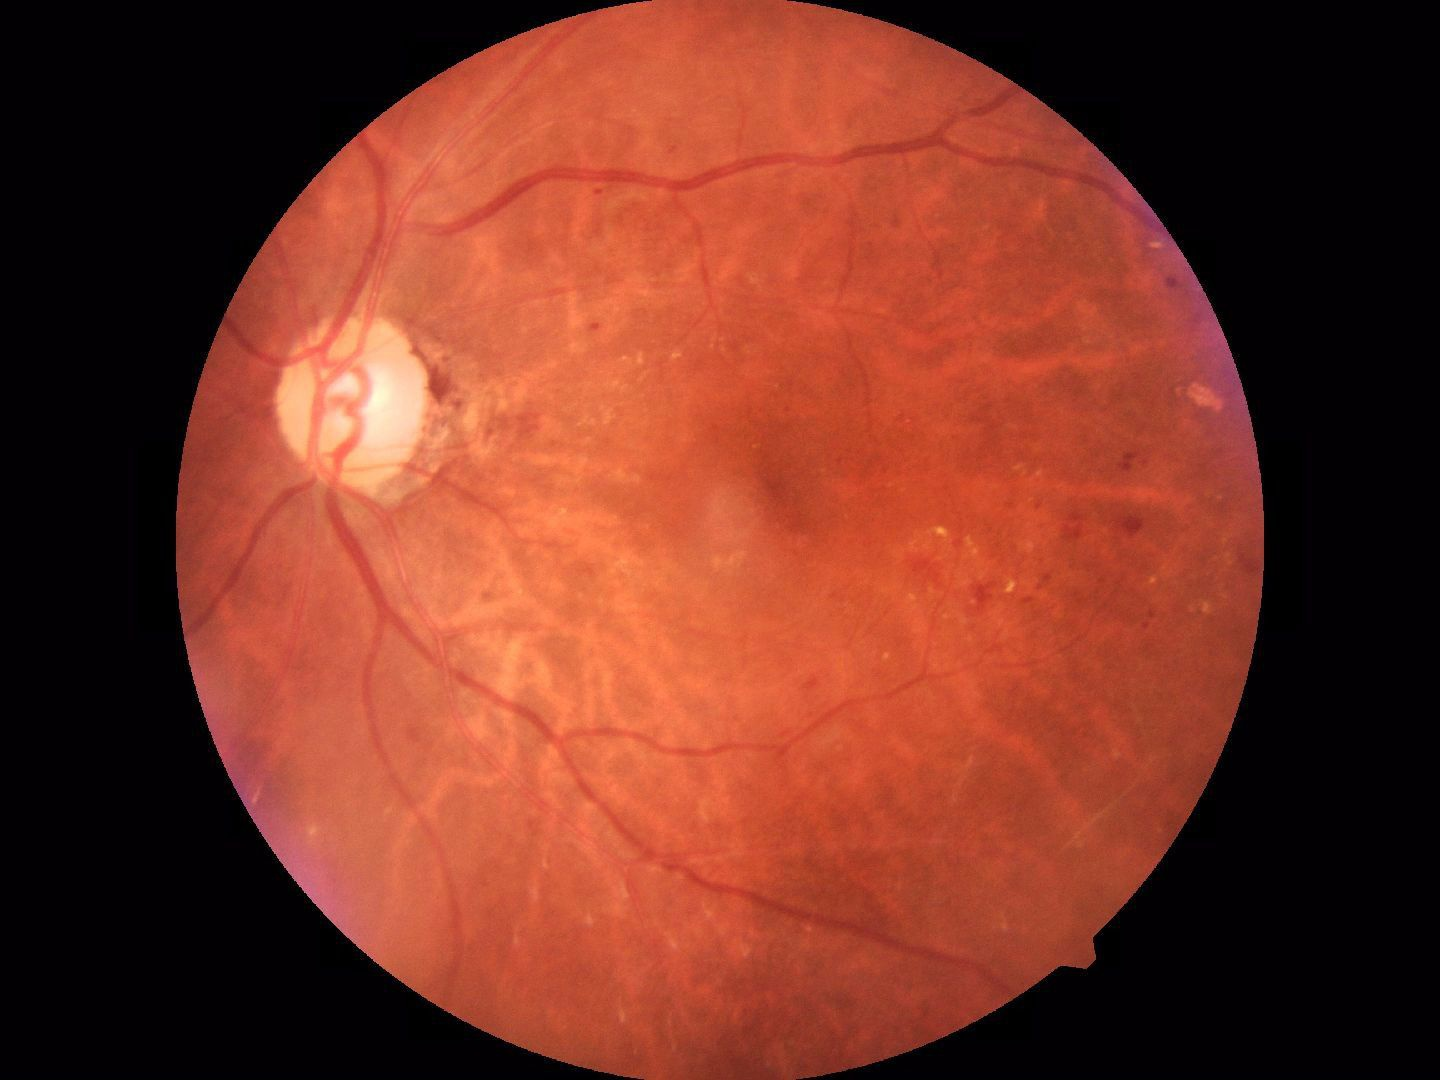Exudates: (895, 511, 1028, 624), (1180, 374, 1228, 419)
Hemorrhages: (749, 403, 849, 540)
Microaneurysms: (1071, 508, 1164, 557)
Optic-Disc: (262, 313, 477, 506)
